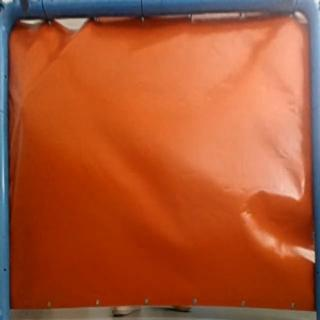Hit-hRxx: (17, 98, 28, 115)
